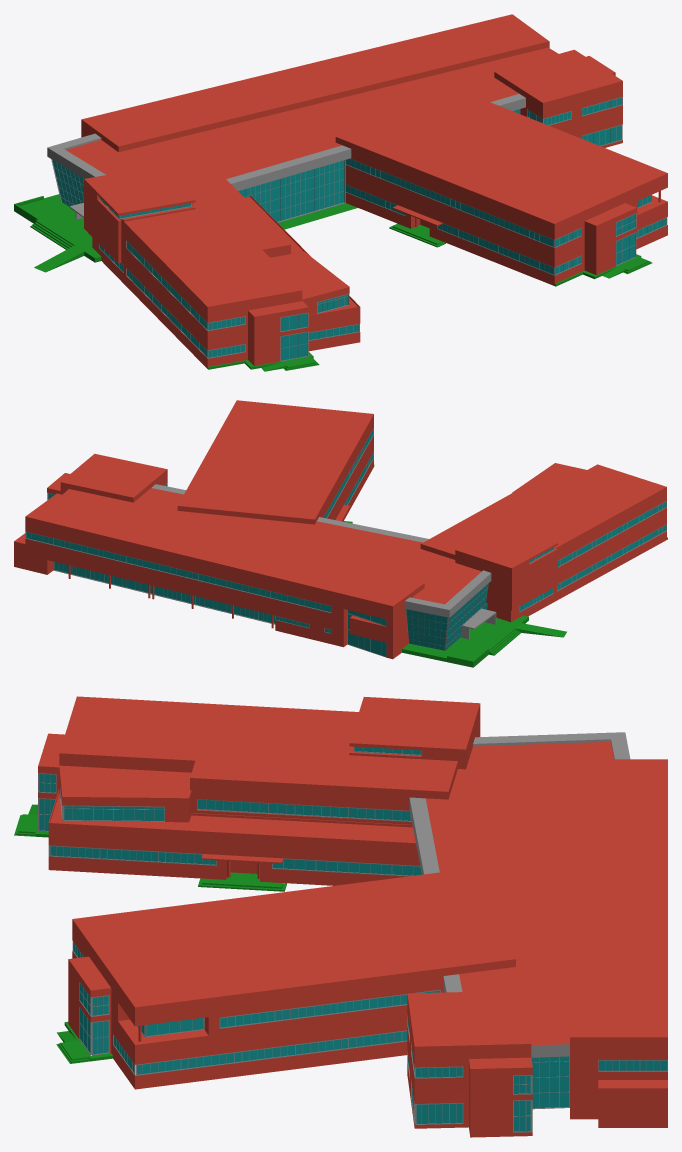
Rendered from Blockout_Grado_003.FBX.
3 renders of one model, top to bottom at view 1: azimuth 30°, elevation 25°; view 2: azimuth 150°, elevation 25°; view 3: azimuth 270°, elevation 25°, orthographic. The views are drawn at different scales.
Visible parts, largest first — view 1: Box005, Box004, Box002, Box003, Windows, Box006, Box008, Object003, Plane007, Object002, Group001, Group002 (+3 smaller); view 2: Box002, Box005, Box004, Box003, Windows, Box008, Box006, Plane007, Object002, Object003, Box010, Plane010; view 3: Box005, Box004, Box002, Box003, Windows, Box006, Box008, Object003, Object002, Line001, Group002.
Boxes of the visible parts, left/top/right/bottom form: Box005: left=335, top=86, right=667, bottom=285; Box004: left=92, top=168, right=360, bottom=368; Box002: left=81, top=14, right=549, bottom=152; Box003: left=66, top=47, right=558, bottom=190; Windows: left=51, top=97, right=667, bottom=361; Box006: left=494, top=49, right=622, bottom=147; Box008: left=84, top=165, right=195, bottom=263; Object003: left=270, top=251, right=349, bottom=315; Plane007: left=14, top=194, right=101, bottom=262; Object002: left=47, top=133, right=105, bottom=178; Group001: left=207, top=352, right=319, bottom=371; Group002: left=554, top=254, right=652, bottom=286; Box002: left=14, top=493, right=424, bottom=659; Box005: left=177, top=400, right=373, bottom=524; Box004: left=420, top=464, right=666, bottom=622; Box003: left=62, top=484, right=481, bottom=604; Windows: left=25, top=428, right=666, bottom=657; Box008: left=455, top=524, right=557, bottom=610; Box006: left=47, top=453, right=167, bottom=502; Plane007: left=402, top=615, right=528, bottom=667; Object002: left=404, top=570, right=491, bottom=617; Object003: left=512, top=463, right=586, bottom=493; Box010: left=460, top=608, right=496, bottom=639; Plane010: left=515, top=623, right=566, bottom=637; Box005: left=68, top=871, right=515, bottom=1089; Box004: left=38, top=696, right=457, bottom=885; Box002: left=570, top=759, right=667, bottom=1127; Box003: left=409, top=741, right=614, bottom=1057; Windows: left=38, top=746, right=667, bottom=1132; Box006: left=407, top=990, right=532, bottom=1137; Box008: left=349, top=697, right=480, bottom=769; Object003: left=59, top=765, right=191, bottom=822; Object002: left=473, top=732, right=630, bottom=759; Line001: left=198, top=872, right=286, bottom=891; Group002: left=56, top=1021, right=112, bottom=1063.
Size of the model in its own units: 11114 by 1338 by 8169.
